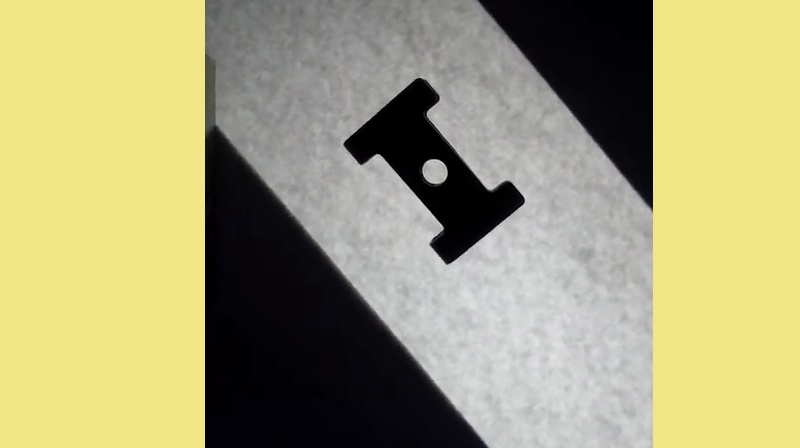O002: (339, 74, 528, 265)
